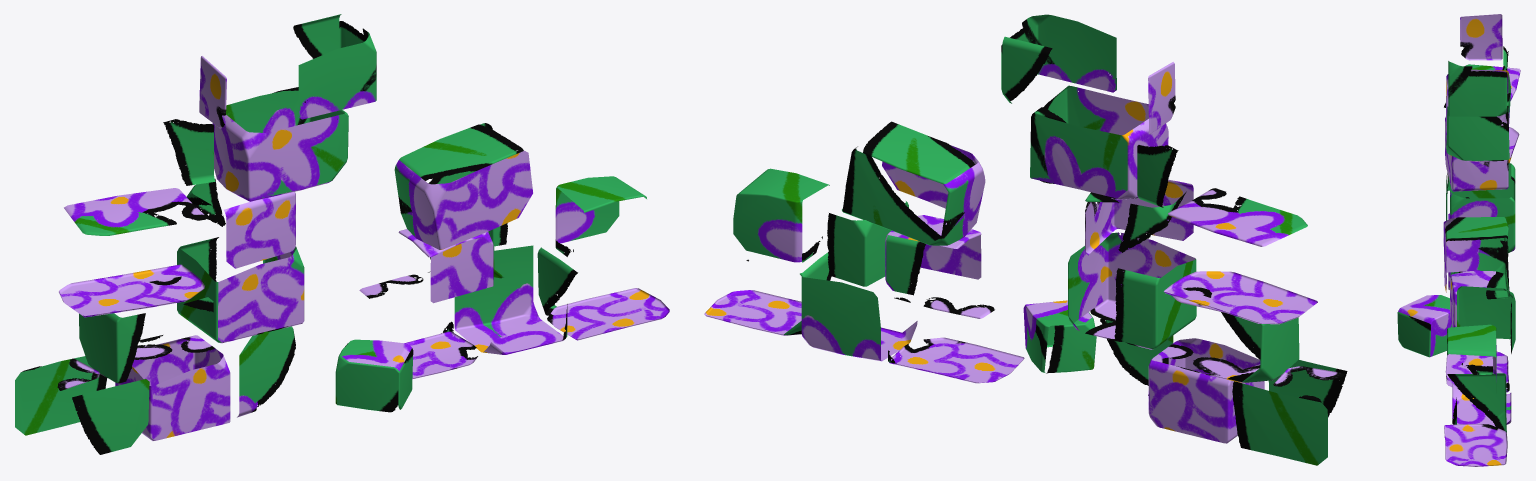
The model's file is WallDestroyed.fbx.
The picture shows the model from 3 angles, left to right: view 1: azimuth 30°, elevation 25°; view 2: azimuth 150°, elevation 25°; view 3: azimuth 270°, elevation 25°; orthographic projection. The views are drawn at different scales.
Visible parts, largest first — view 1: WallDestroyed; view 2: WallDestroyed; view 3: WallDestroyed.
Part boxes in pixels (bbox=[...]): WallDestroyed: bbox=[15, 14, 669, 454]; WallDestroyed: bbox=[704, 14, 1347, 465]; WallDestroyed: bbox=[1397, 14, 1520, 466].
Bounding box in the file's own units: 664 × 354 × 139.
